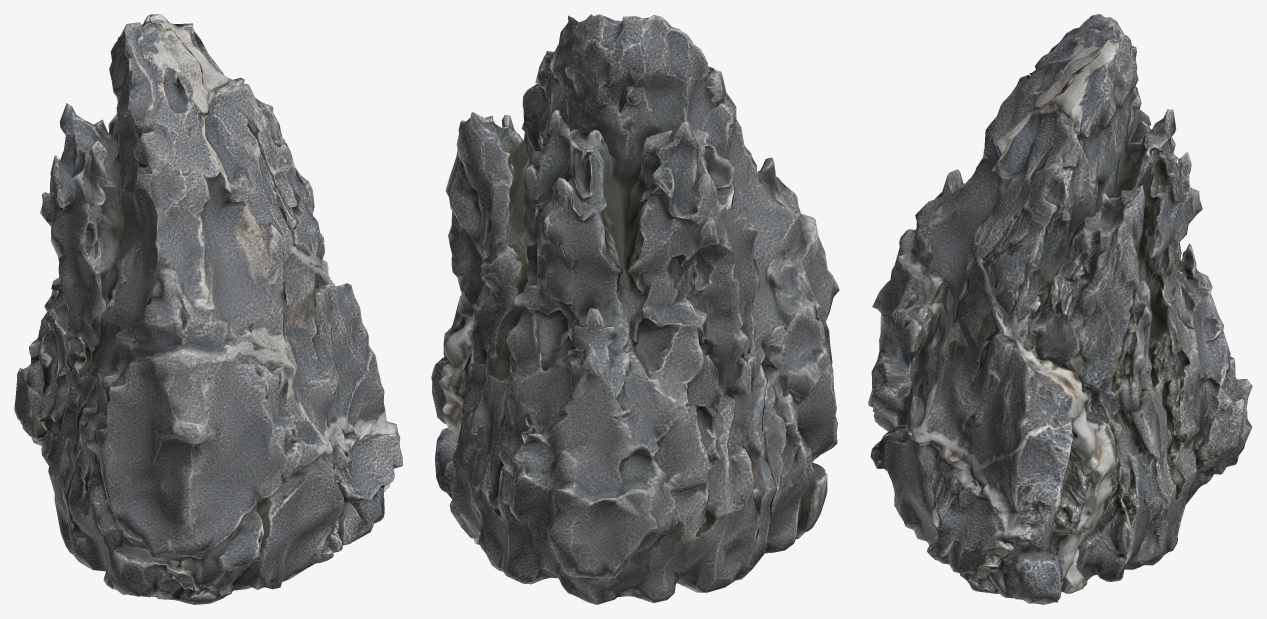
Rendered from stone.glb.
3 renders of one model, left to right at view 1: azimuth 30°, elevation 25°; view 2: azimuth 150°, elevation 25°; view 3: azimuth 270°, elevation 25°, orthographic. The views are drawn at different scales.
Parts seen in each view (by area): view 1: tripo_node_40f1f85d-1742-4997-b758-b0782dd1e649; view 2: tripo_node_40f1f85d-1742-4997-b758-b0782dd1e649; view 3: tripo_node_40f1f85d-1742-4997-b758-b0782dd1e649.
Part boxes in pixels (left/top/right/bottom): tripo_node_40f1f85d-1742-4997-b758-b0782dd1e649: left=14, top=14, right=402, bottom=604; tripo_node_40f1f85d-1742-4997-b758-b0782dd1e649: left=431, top=14, right=839, bottom=604; tripo_node_40f1f85d-1742-4997-b758-b0782dd1e649: left=868, top=14, right=1252, bottom=604.
Size of the model in its own units: 0.6694 by 1 by 0.7029.
1 material, 1 textured.
